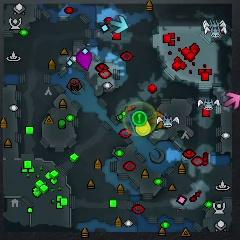Other: (132, 111, 147, 126)
p3: (76, 50, 93, 71)
p4: (135, 116, 151, 135)
x1: (223, 92, 240, 108)
x3: (109, 16, 129, 34)
x4: (147, 114, 157, 132)
x5: (148, 110, 167, 128)
